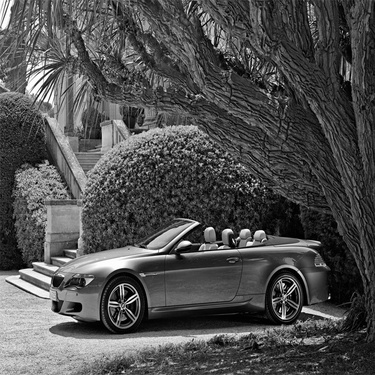car: (47, 212, 331, 336)
